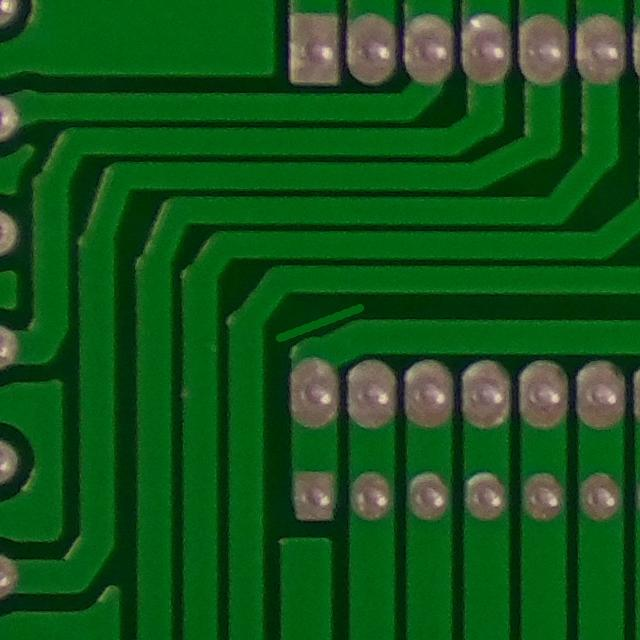spurious_copper: (263, 293, 378, 347)
